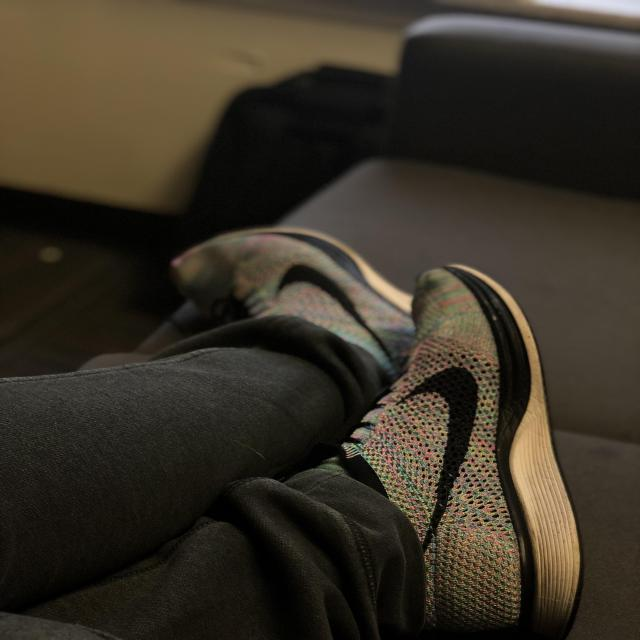shoe: (153, 209, 640, 640)
